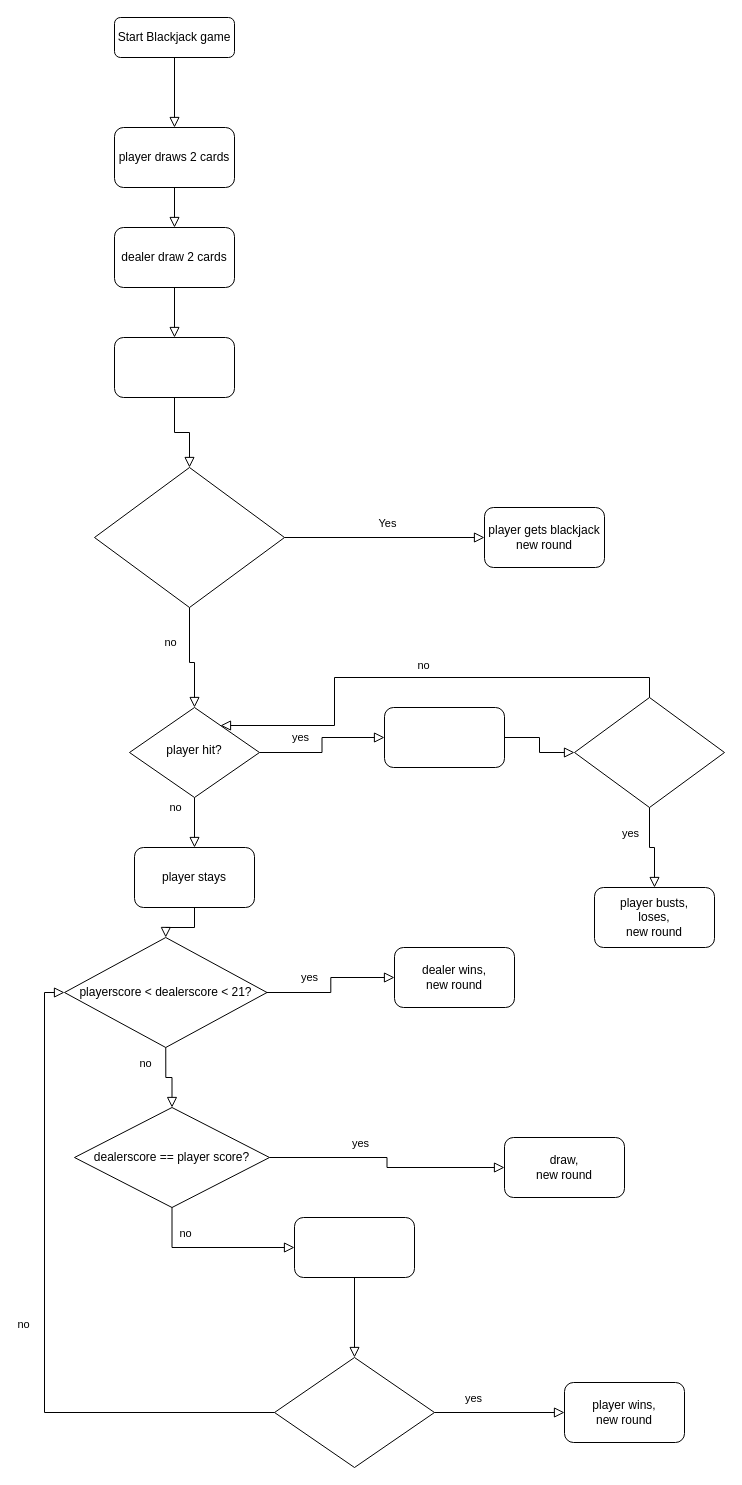
This 742x1485 diagram has some shape labels left out. Here are the shapes that lost their labels. From the top down, the centre of each, then its label:
At (174,367): "player enter bet".
At (189,537): "playerscore == 21?".
At (444,737): "player draws another card".
At (649,752): "playerscore > 21?".
At (354,1247): "dealer draw card".
At (354,1412): "dealerscore > 21?".
